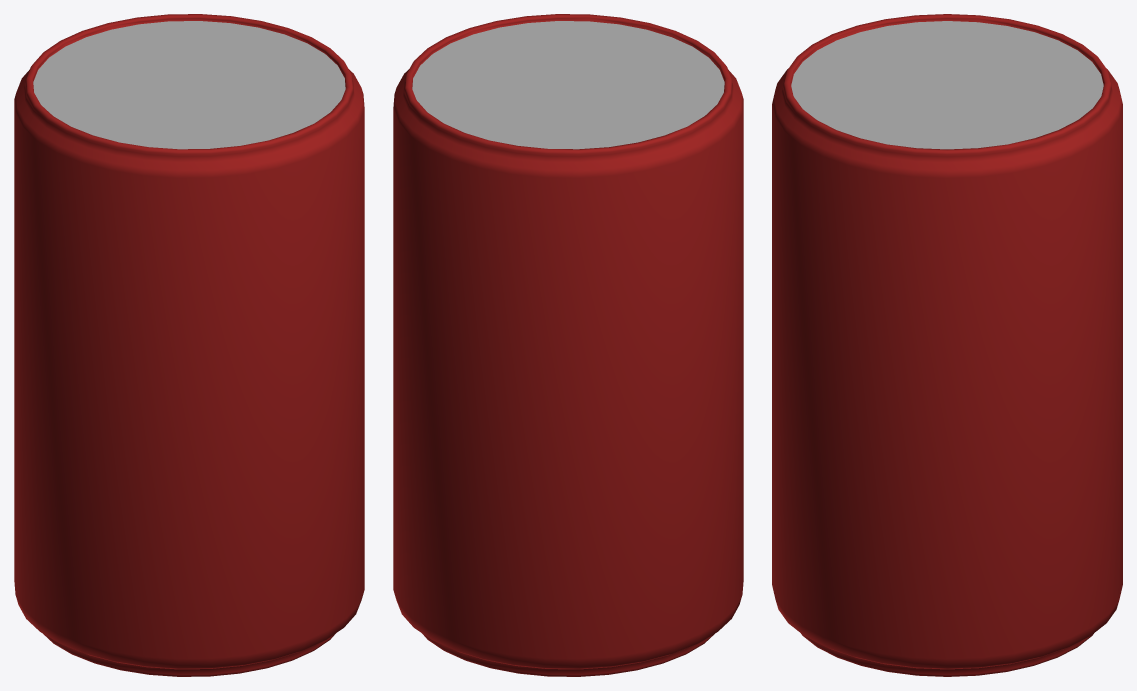
The model's file is Can_Whole.fbx.
The picture shows the model from 3 angles, left to right: view 1: azimuth 30°, elevation 25°; view 2: azimuth 150°, elevation 25°; view 3: azimuth 270°, elevation 25°; orthographic projection.
Visible parts, largest first — view 1: Can_Whole; view 2: Can_Whole; view 3: Can_Whole.
Part boxes in pixels (x1=…): Can_Whole: x1=14, y1=14, x2=364, y2=676; Can_Whole: x1=393, y1=14, x2=743, y2=676; Can_Whole: x1=772, y1=14, x2=1122, y2=676.
Size of the model in its own units: 20.14 by 33.47 by 20.14.
